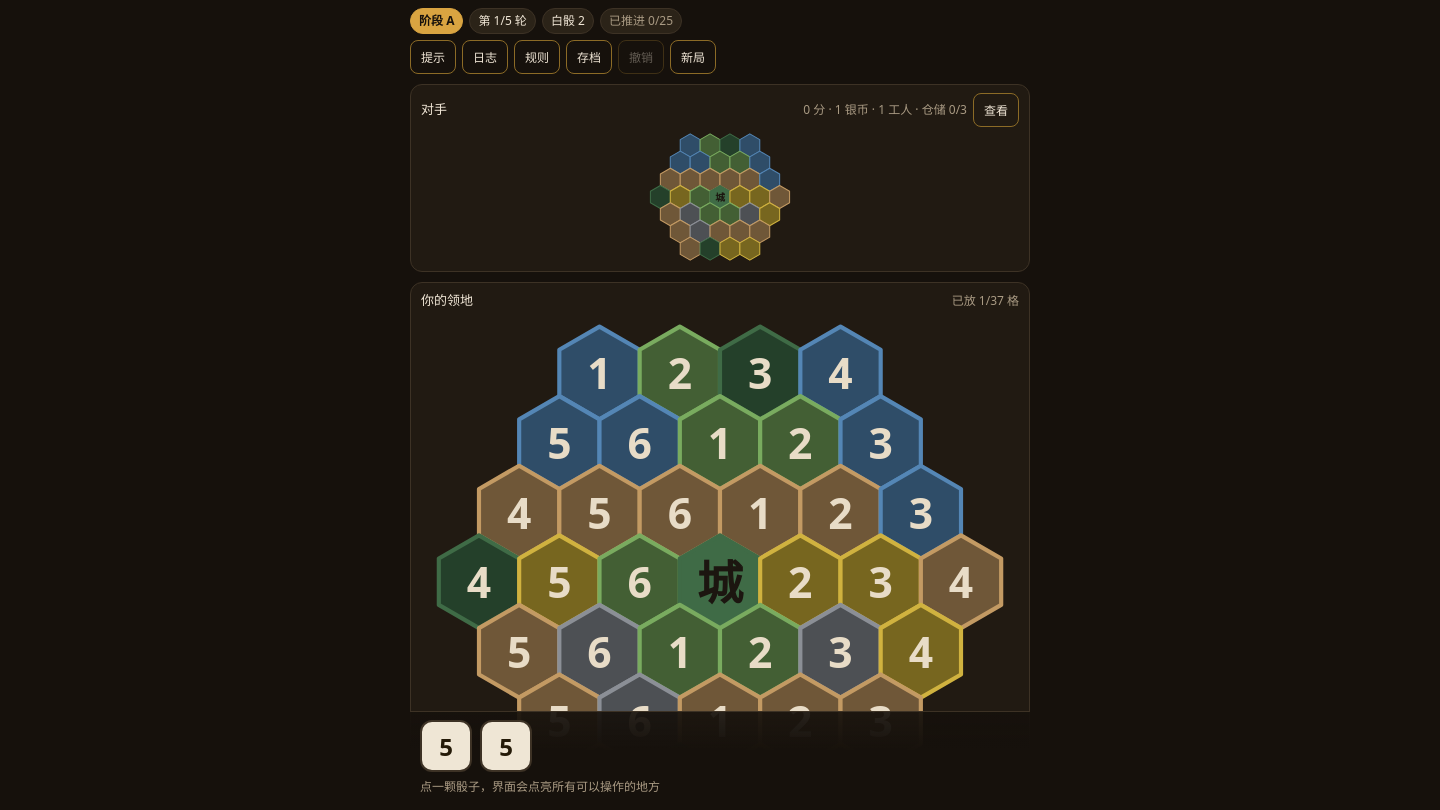
面板能打开且不崩（事件处理器覆盖） › 规则、日志、存档三个面板都能打开再关掉
Expected: the text "你的领地" is shown, [421,291,473,310]
Click the button "规则" at point(537, 57), box [514,40,560,74]
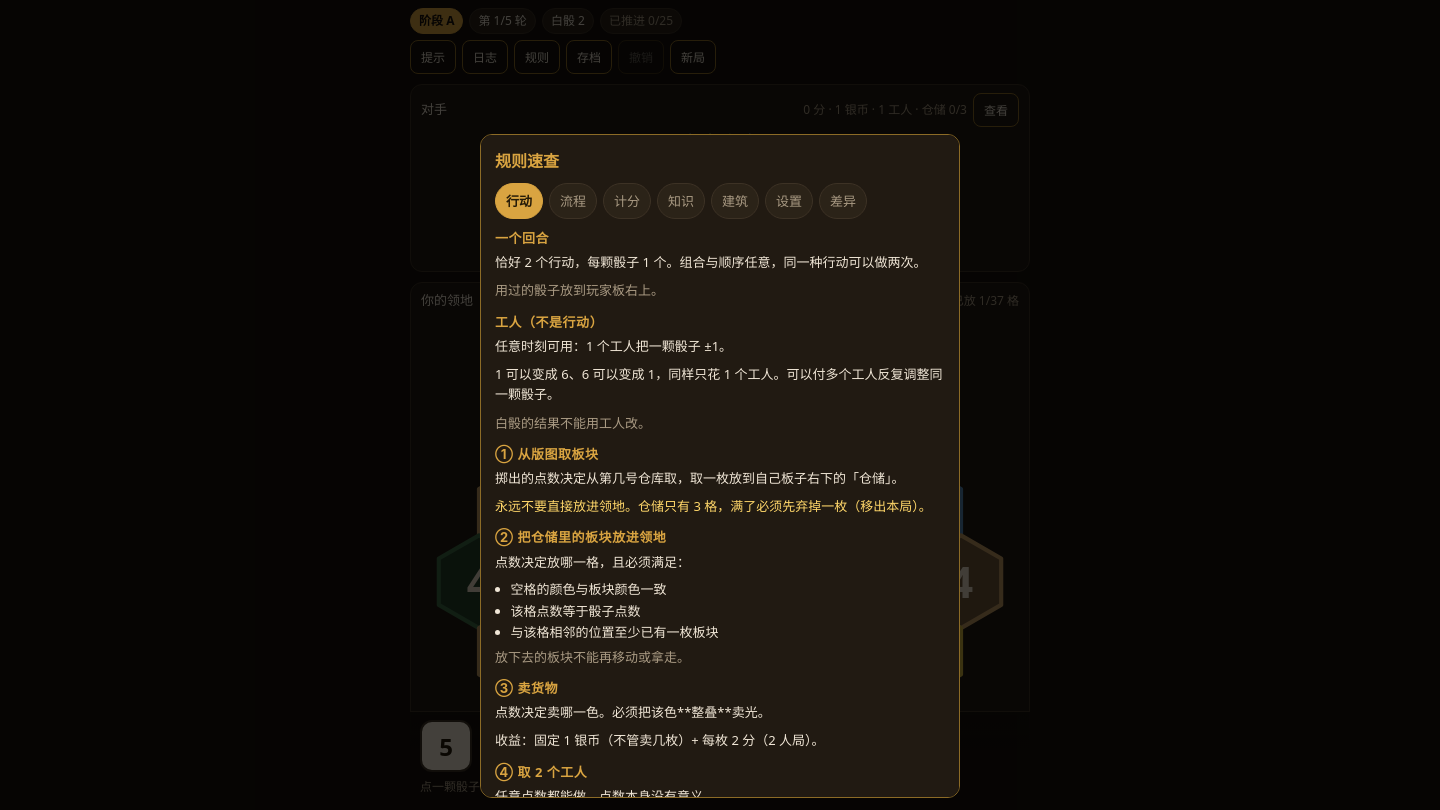
Expected: the heading "规则速查" is shown, [495,150,559,172]
Click the button "计分" at point(627, 201), box [603,183,651,219]
(page scrolled)
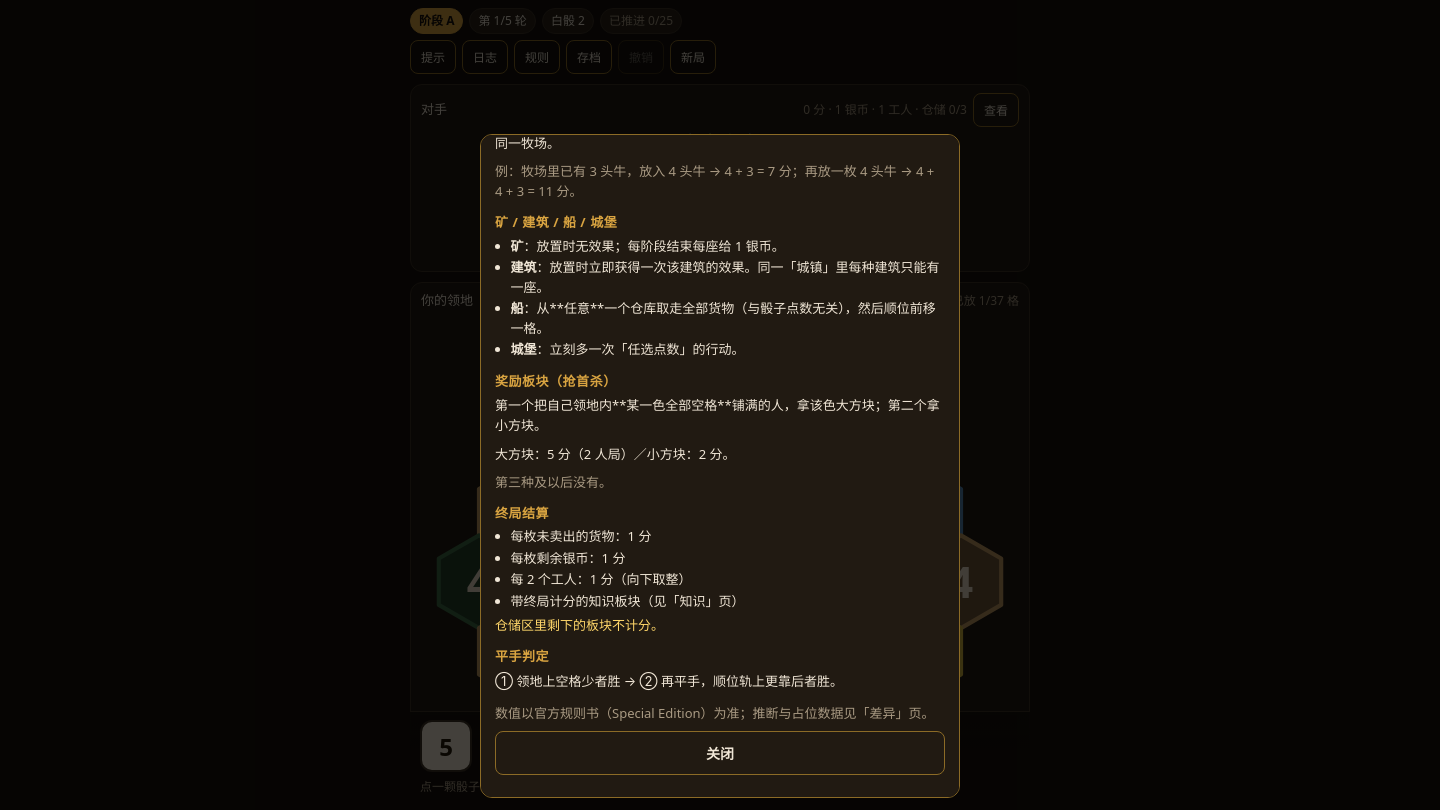
Click the button "关闭" at point(720, 753), box [495,731,945,775]
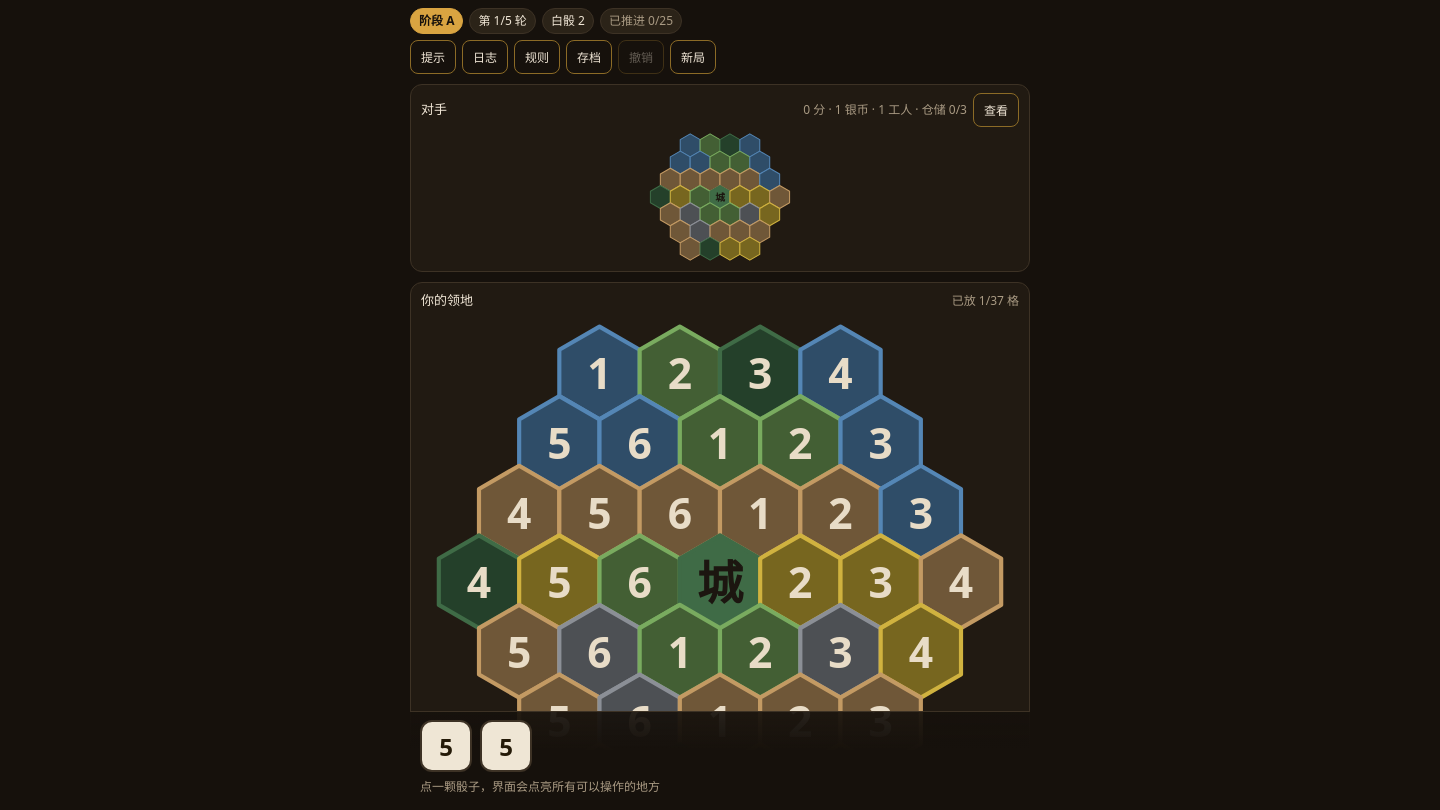
Expected: the heading "规则速查" is not shown
Click the button "日志" at point(485, 57), box [462,40,508,74]
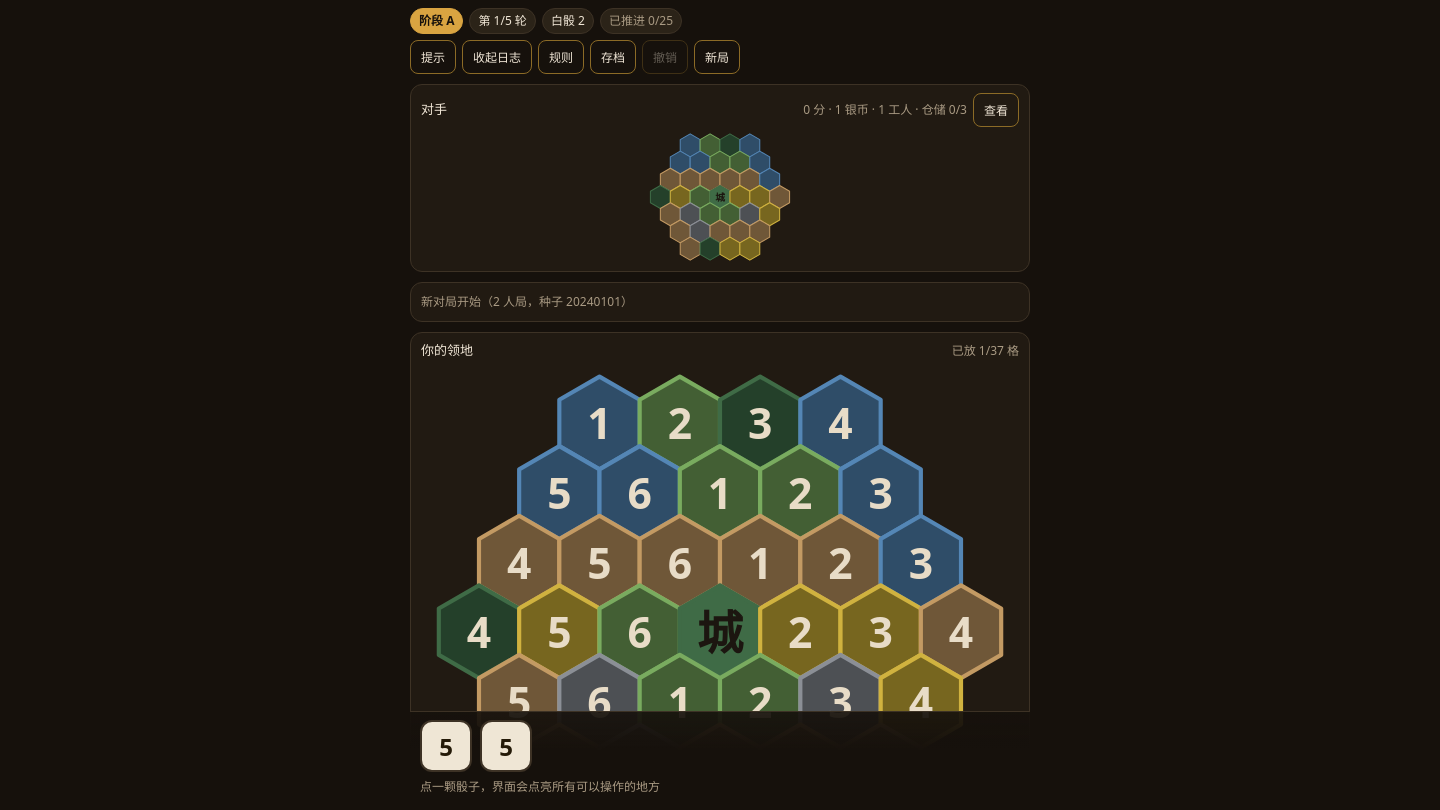
Expected: the button "收起日志" is shown, [462,40,532,74]
Click the button "存档" at point(613, 57), box [590,40,636,74]
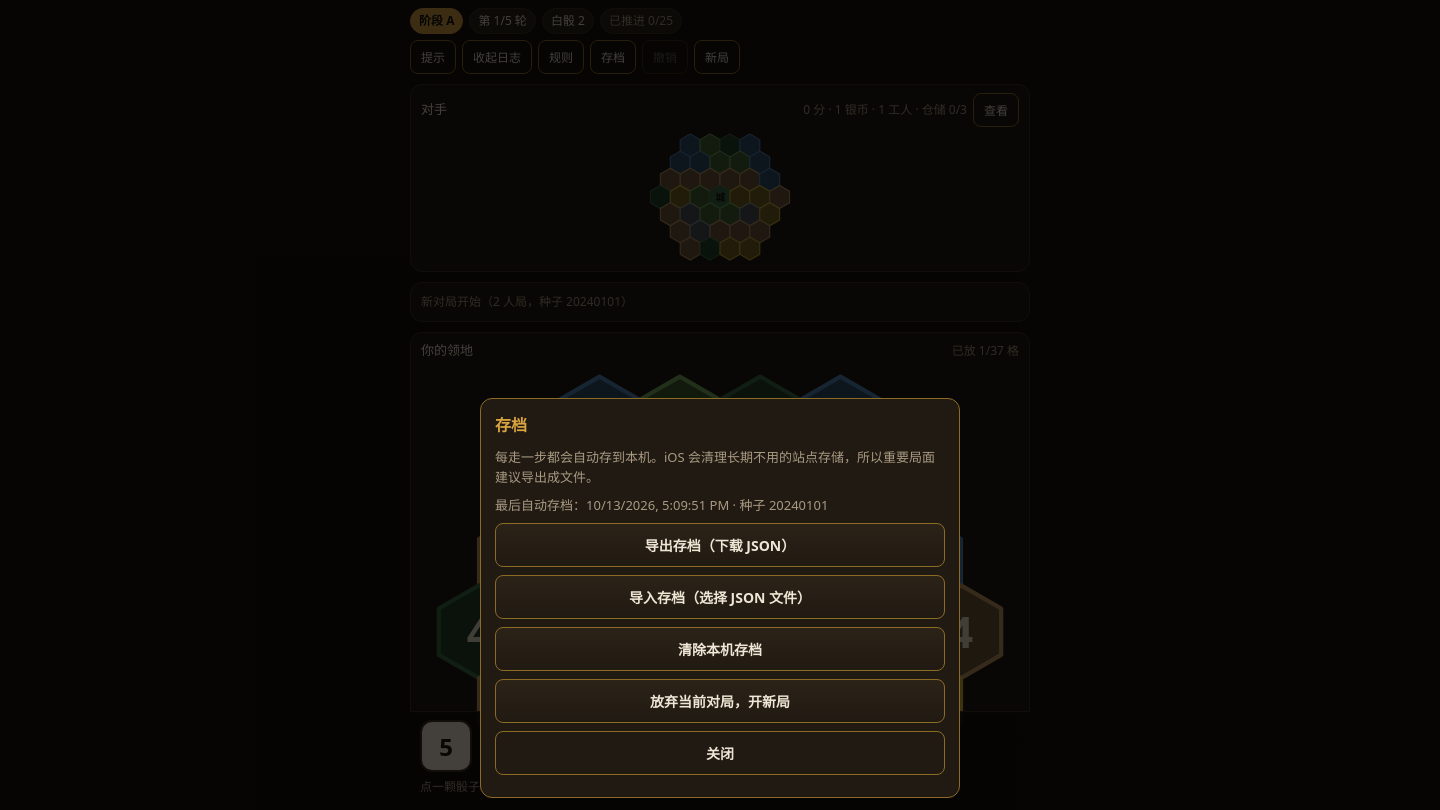
Expected: the button "导出存档（下载 JSON）" is shown, [495,523,945,567]
Click the button "关闭" at point(720, 753), box [495,731,945,775]
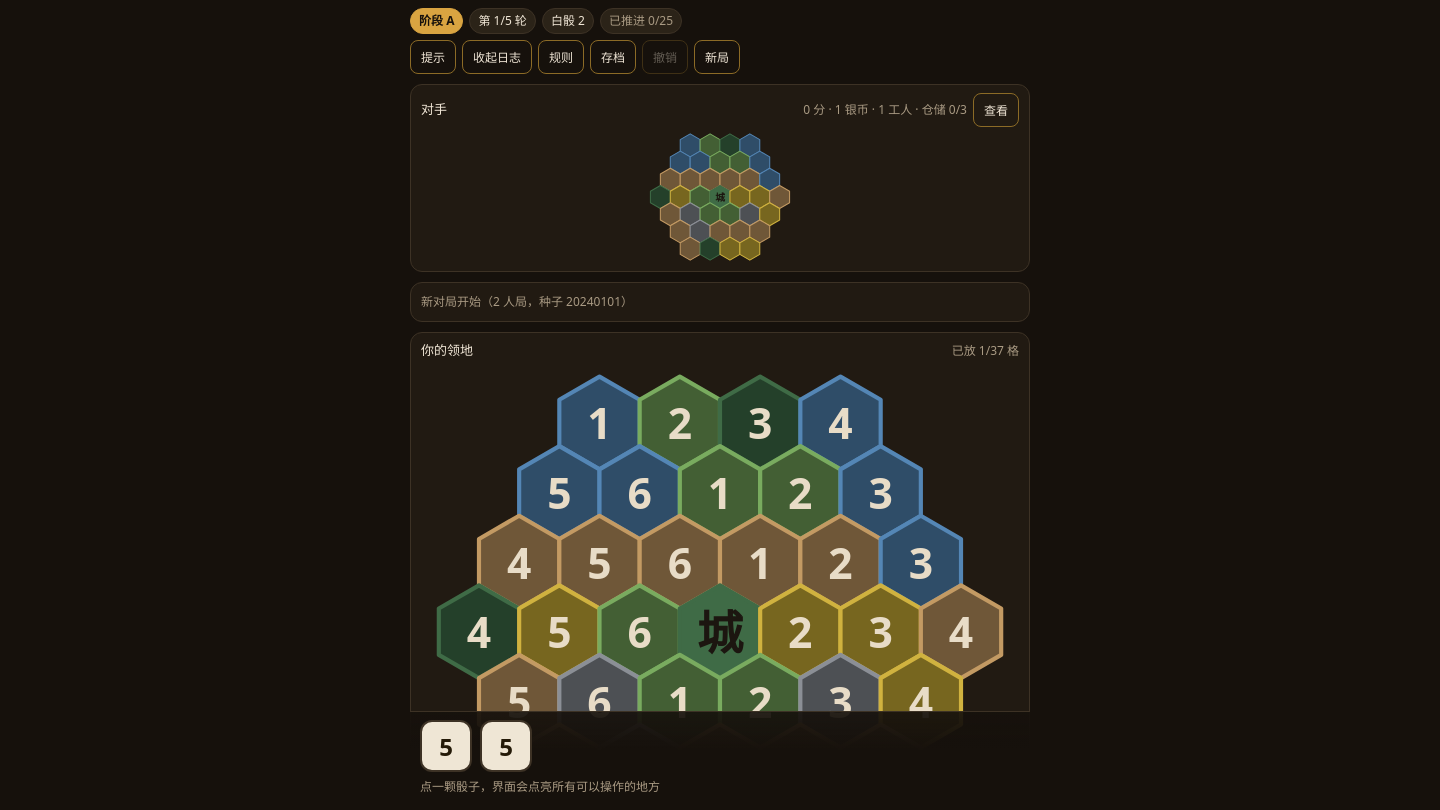
Expected: the button "导出存档（下载 JSON）" is gone
